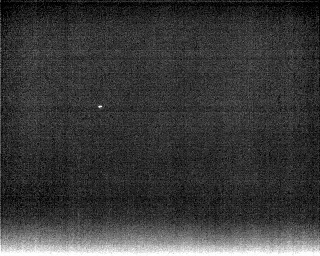BIRD: (96, 103, 104, 110)
